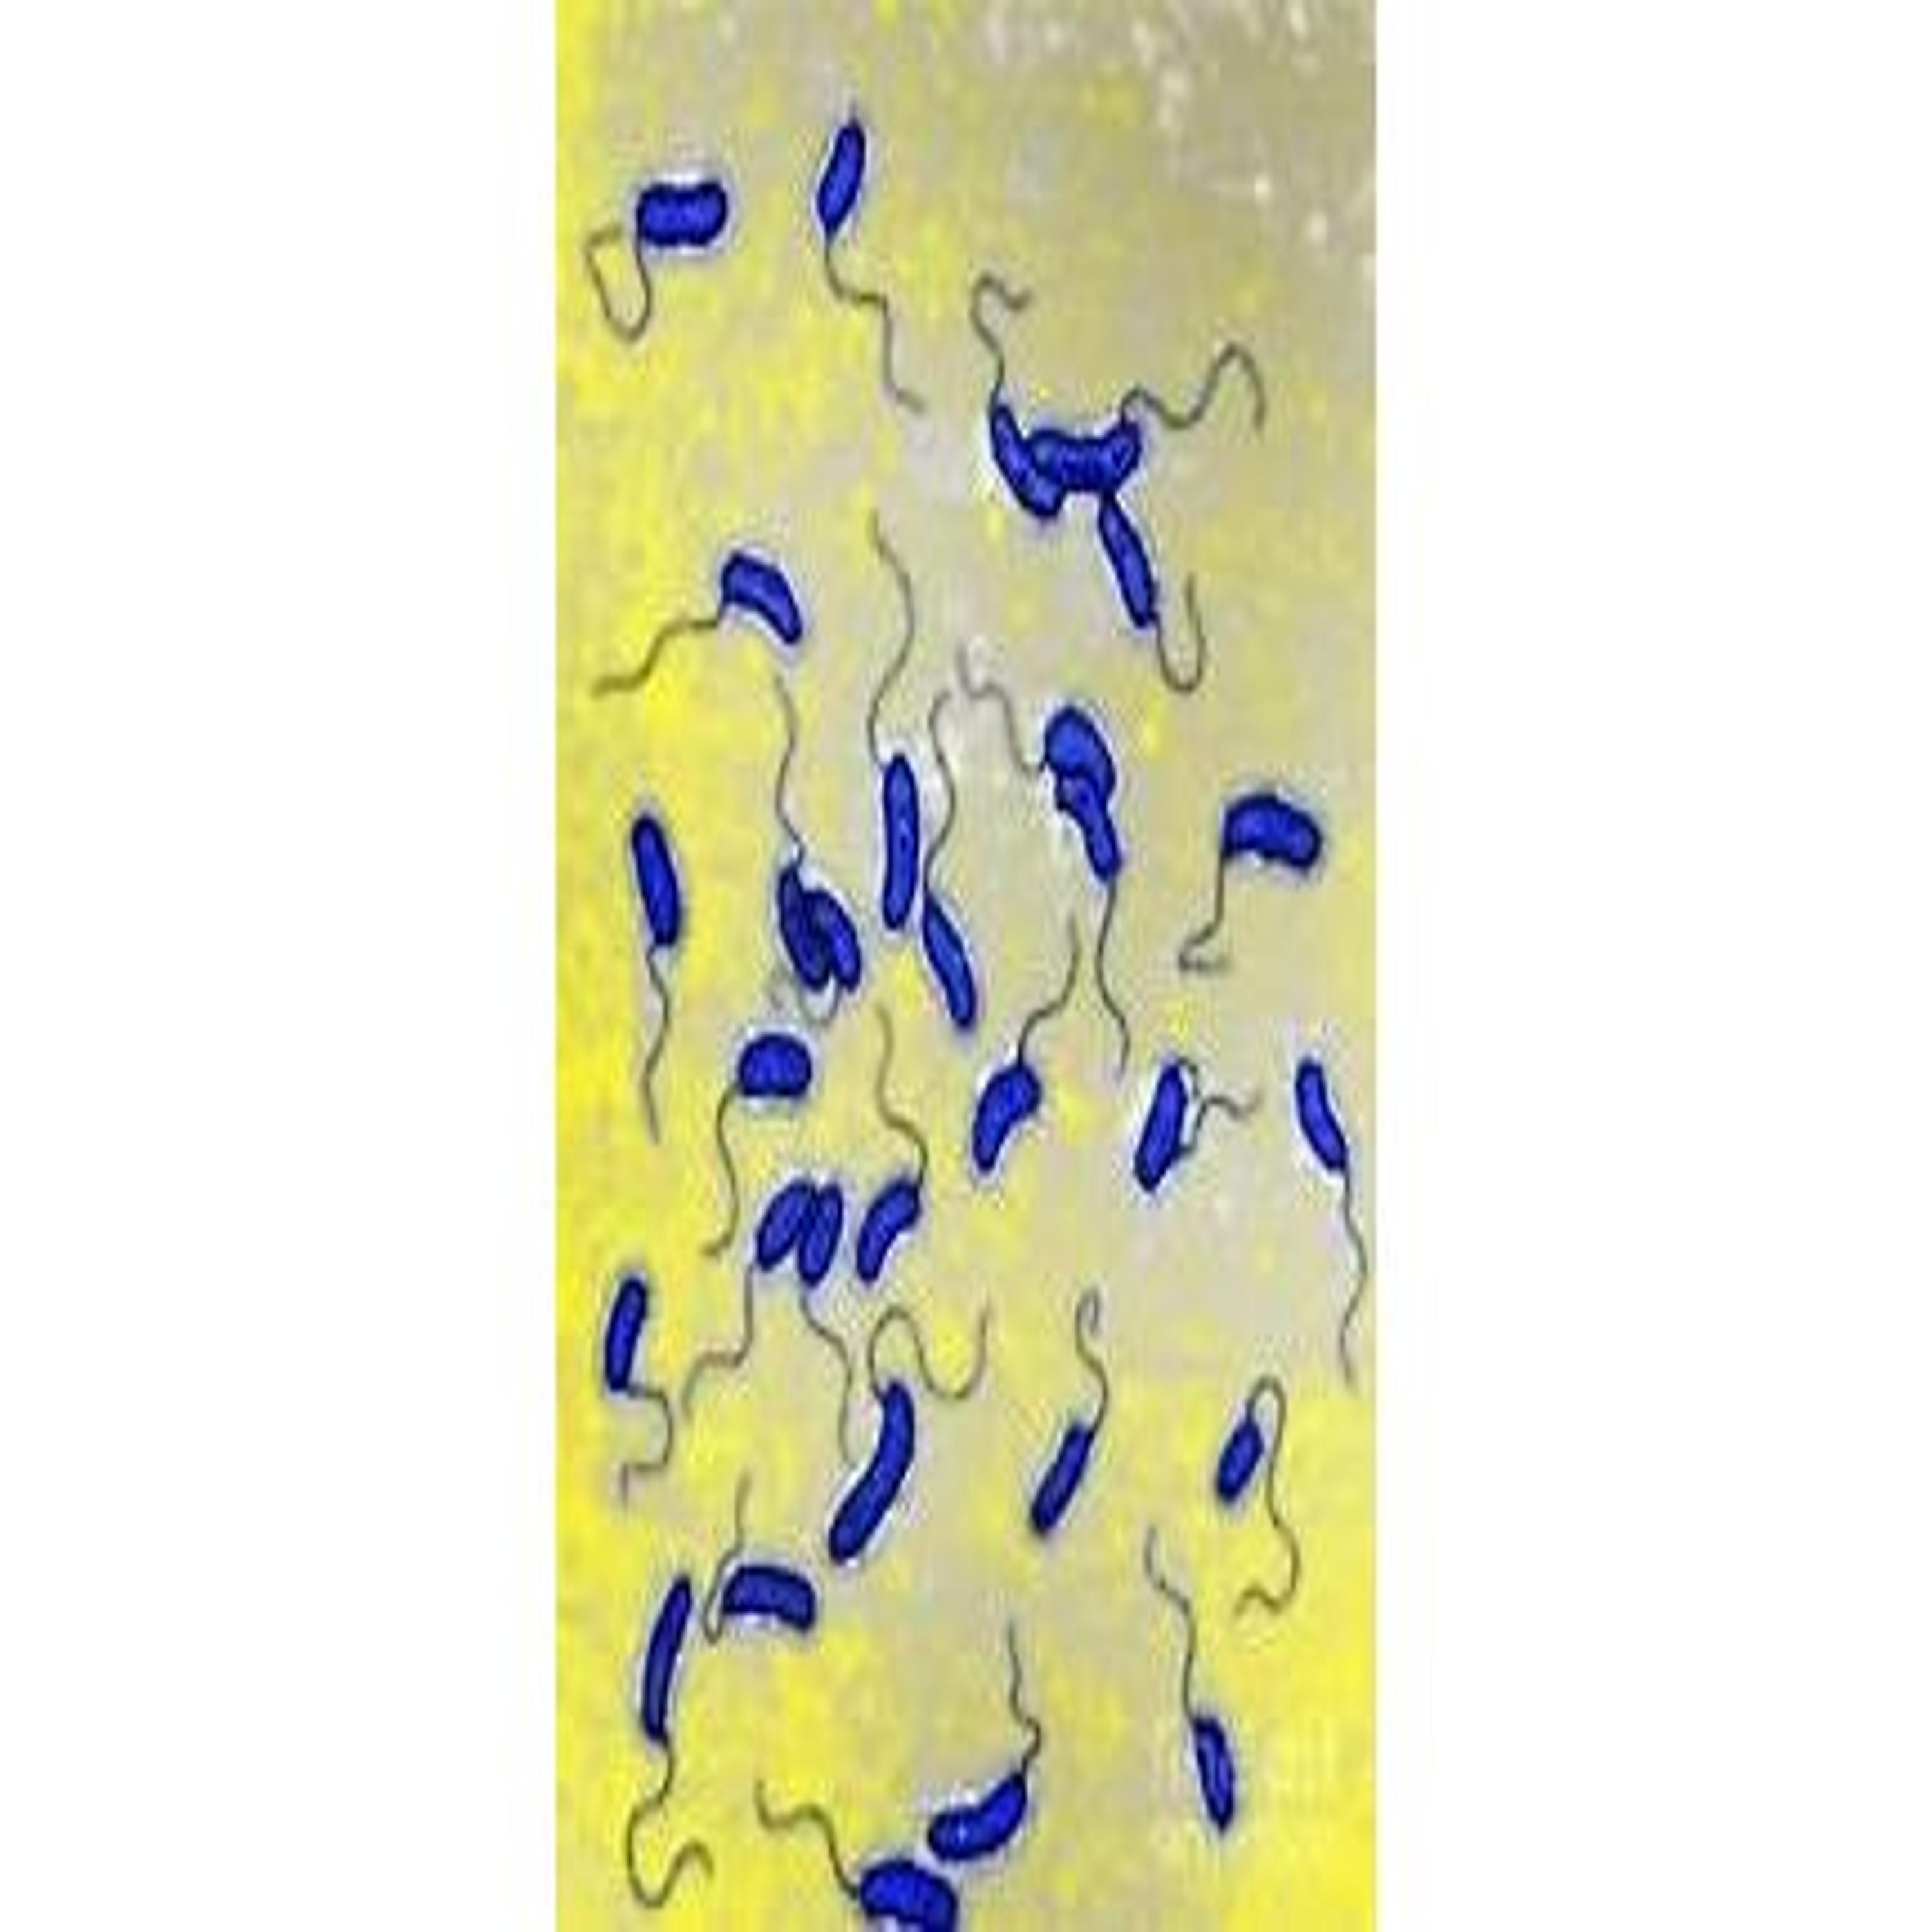Vibrio_cholerae5: (810, 117, 915, 418), (593, 540, 805, 683), (589, 172, 738, 340), (869, 540, 915, 936)
